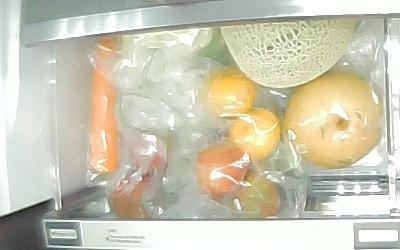carrot_vinyl: (88, 39, 122, 178)
melon: (218, 18, 360, 90)
pear_vinyl: (285, 72, 385, 170)
prune_vinyl: (196, 143, 251, 206), (107, 166, 161, 220), (230, 171, 284, 219)
tangerine_vinyl: (225, 108, 282, 164), (207, 71, 258, 124)
